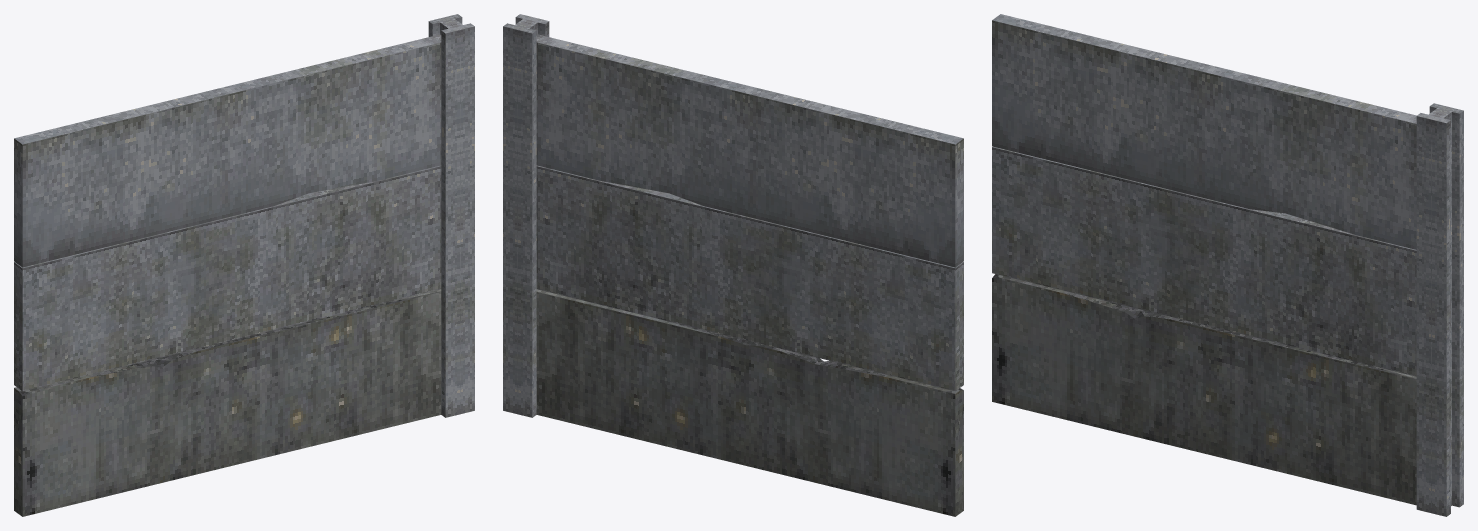
The model's file is plackard_open_alt2.glb.
The picture shows the model from 3 angles, left to right: view 1: azimuth 30°, elevation 25°; view 2: azimuth 150°, elevation 25°; view 3: azimuth 330°, elevation 25°; orthographic projection. The views are drawn at different scales.
Parts seen in each view (by area): view 1: plackard_open_alt2; view 2: plackard_open_alt2; view 3: plackard_open_alt2.
Boxes of the visible parts, x1,y1,x2,y2 form: plackard_open_alt2: [14, 14, 474, 516]; plackard_open_alt2: [503, 14, 963, 516]; plackard_open_alt2: [992, 14, 1463, 516].
Bounding box in the file's own units: 3.81 × 3.12 × 0.25.
1 material, 1 textured.
